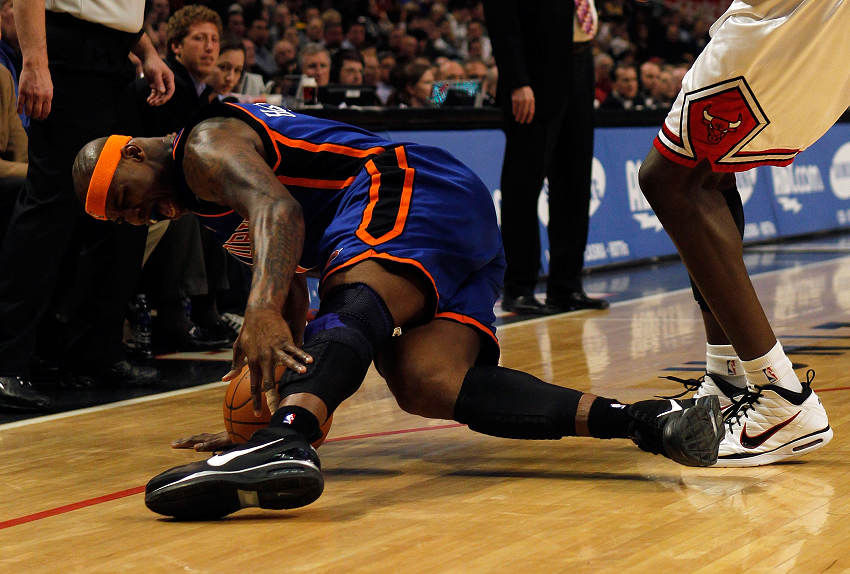10+: (5, 3, 850, 467)
down: (67, 100, 724, 526)
